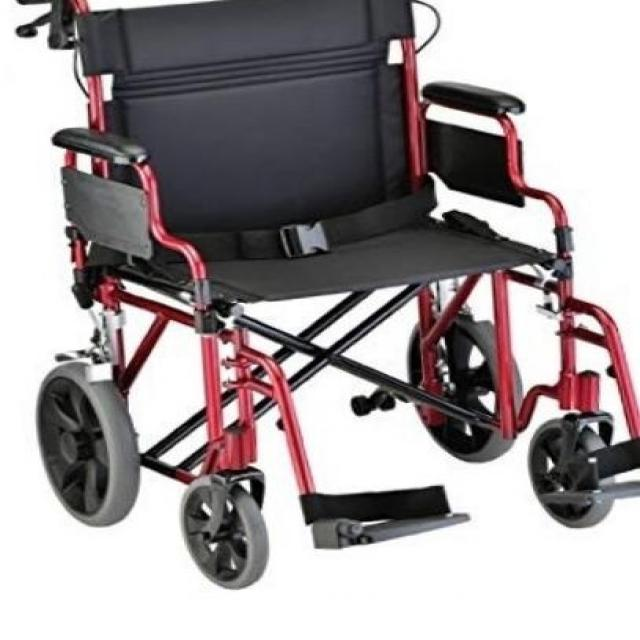wheelchair: (1, 6, 640, 597)
